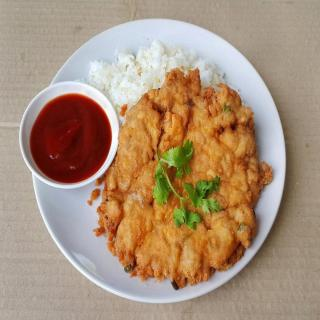carbs: (93, 45, 218, 92)
omelet_rice: (92, 48, 257, 282)
veg: (161, 150, 213, 222)
